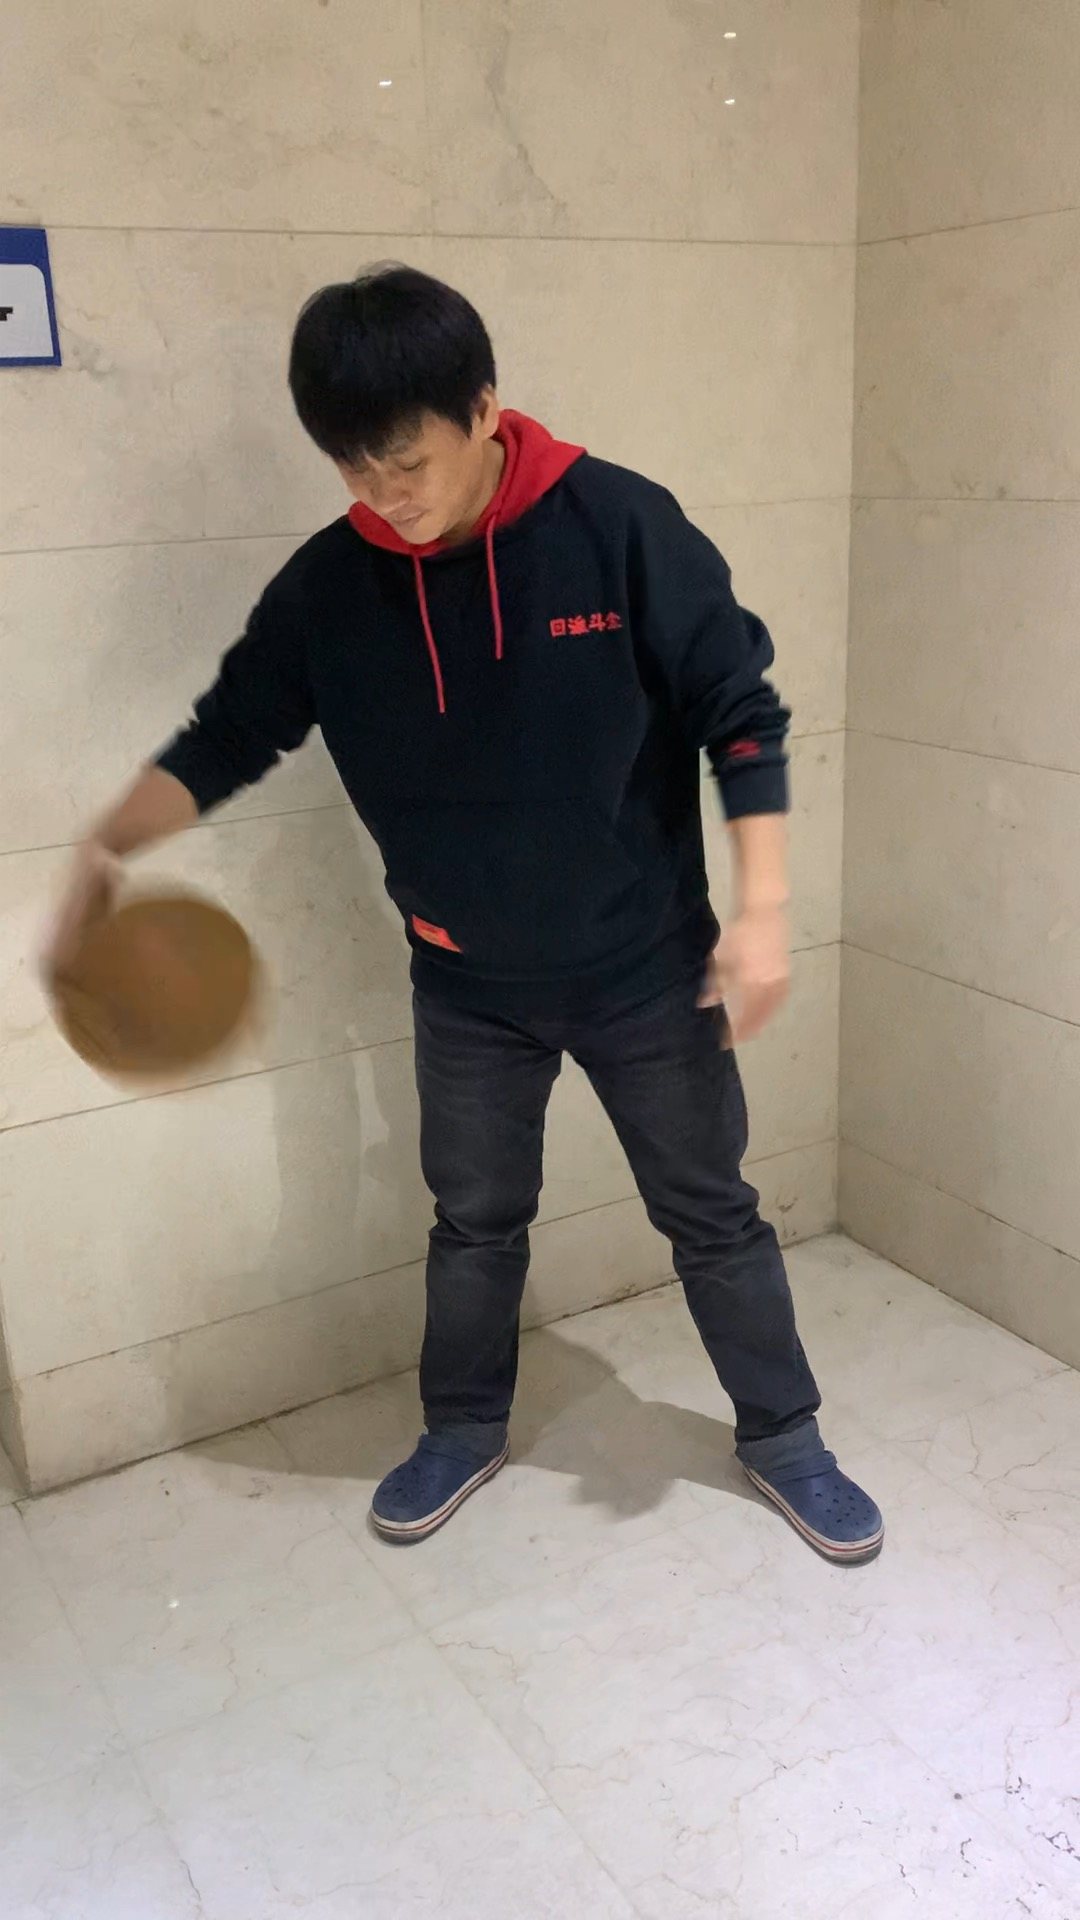ball: (33, 873, 289, 1112)
